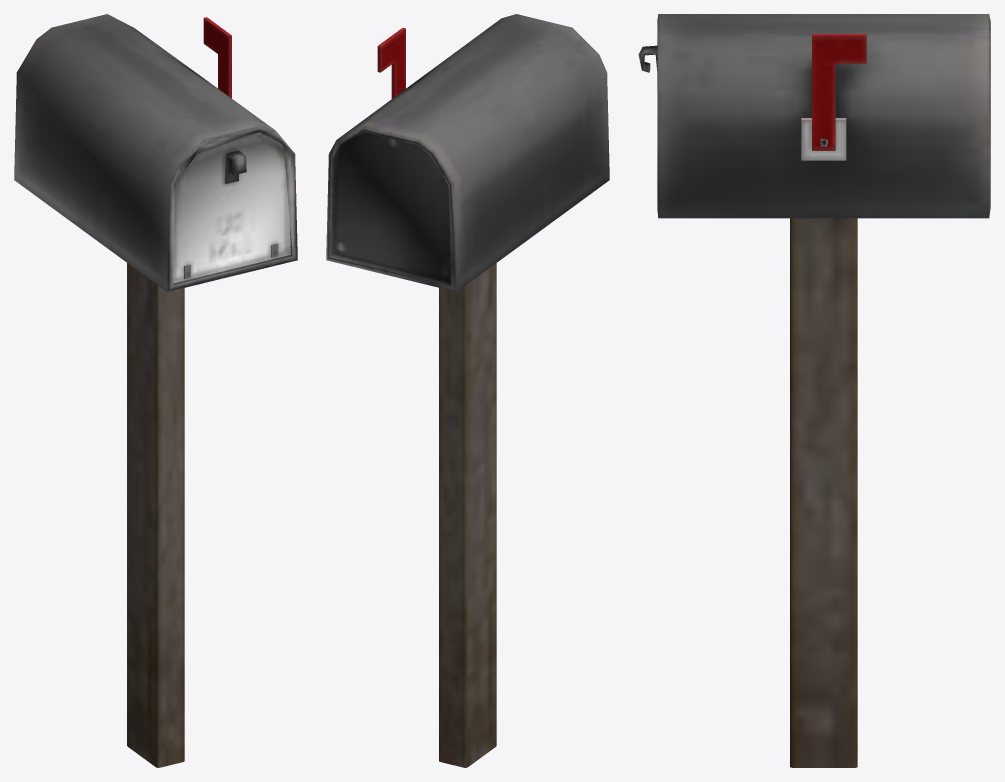
The model's file is mailbox.lod1.glb.
3 views of the same model, side by side, from view 1: azimuth 30°, elevation 25°; view 2: azimuth 150°, elevation 25°; view 3: azimuth 270°, elevation 25° (orthographic). The views are drawn at different scales.
Parts seen in each view (by area): view 1: Object_4; view 2: Object_4; view 3: Object_4.
Boxes of the visible parts, box(x1,y1,x2,y2) form: Object_4: box(14, 14, 297, 767); Object_4: box(326, 14, 609, 767); Object_4: box(638, 14, 990, 767).
Size of the model in its own units: 0.2567 by 1.25 by 0.5234.
Materials: 1 (1 with a texture image).
